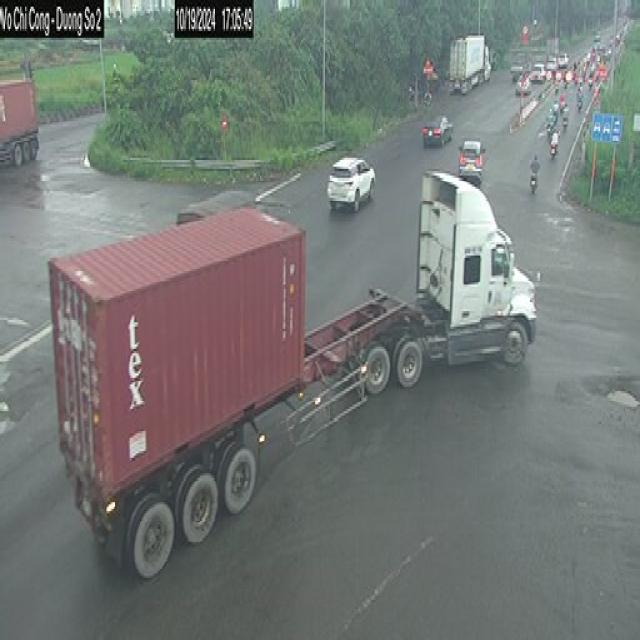car: (326, 150, 378, 218), (421, 108, 457, 150), (460, 135, 487, 188)
container-truck: (44, 172, 542, 594), (0, 75, 42, 168), (449, 34, 494, 100)
